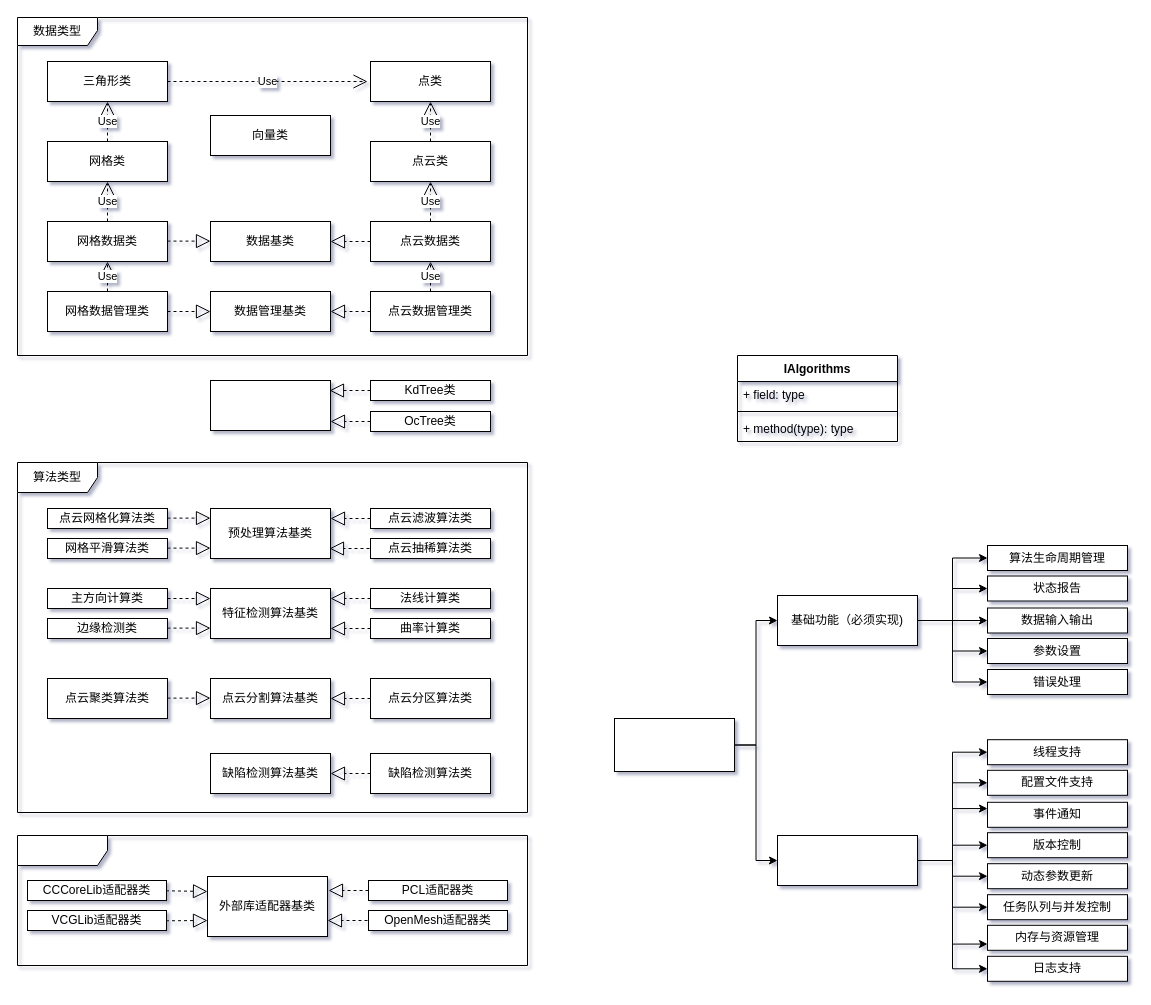
Image size: 1151x1005. Some labels were removed from this diagram. Each missing label, with the centre of its shape:
点云算法基类: pixel 674 745
空间搜索基类: pixel 270 405
适配器类: pixel 272 900
高级功能（可选): pixel 847 860
